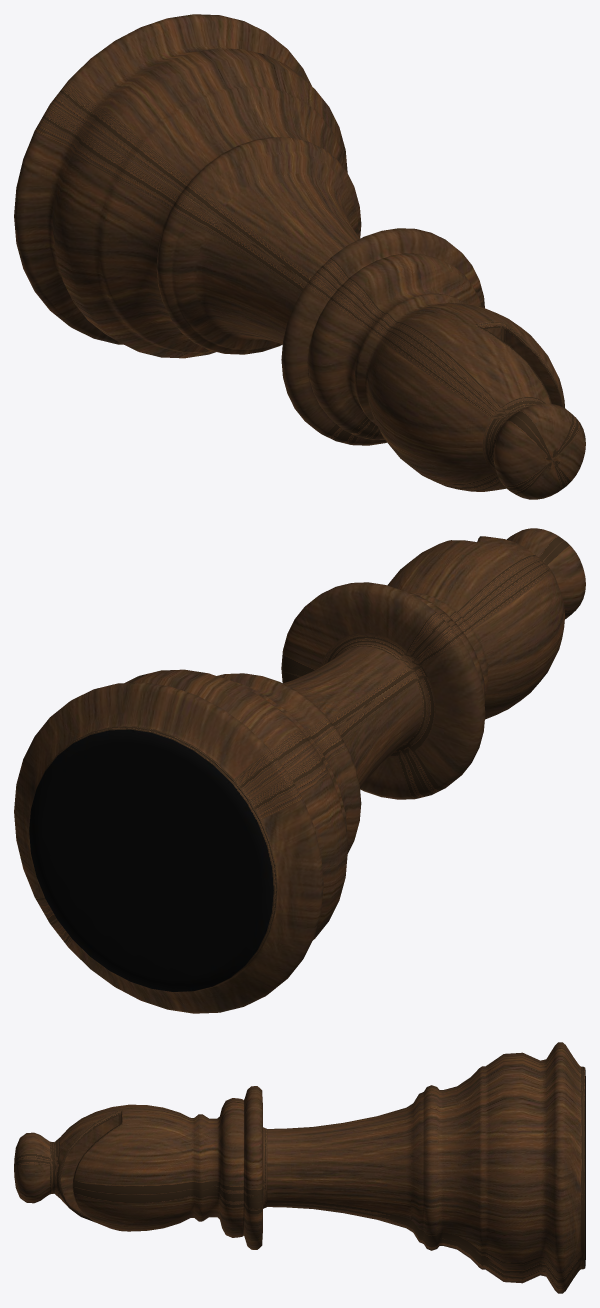
Rendered from []Alfiere_Nero_2-9k.obj.
3 renders of one model, top to bottom at view 1: azimuth 30°, elevation 25°; view 2: azimuth 150°, elevation 25°; view 3: azimuth 270°, elevation 25°, orthographic. The views are drawn at different scales.
Parts seen in each view (by area): view 1: 12395_Wooden_Chess_Bishop_Side_B_V2_l3; view 2: 12395_Wooden_Chess_Bishop_Side_B_V2_l3; view 3: 12395_Wooden_Chess_Bishop_Side_B_V2_l3.
Boxes of the visible parts, <box> form: 12395_Wooden_Chess_Bishop_Side_B_V2_l3: <box>14,14,585,499</box>; 12395_Wooden_Chess_Bishop_Side_B_V2_l3: <box>14,528,585,1013</box>; 12395_Wooden_Chess_Bishop_Side_B_V2_l3: <box>14,1042,585,1293</box>.
Size of the model in its own units: 4.62 by 4.62 by 10.48.
Materials: 1 (1 with a texture image).
